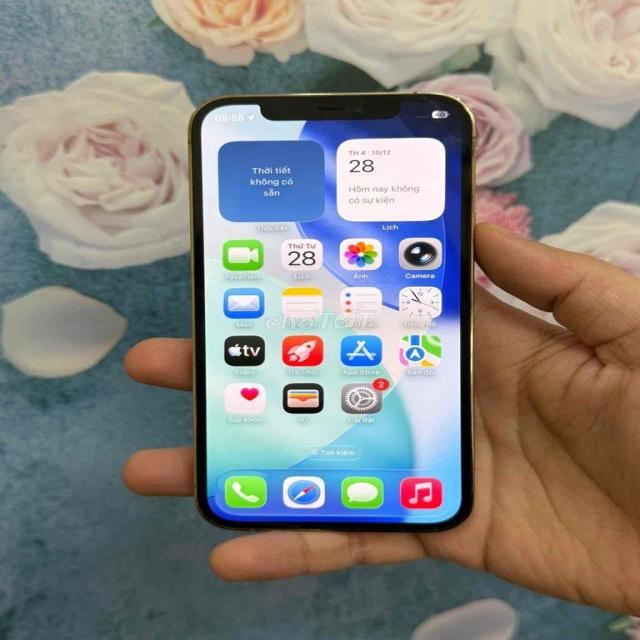gen_12_13: (187, 94, 482, 536)
